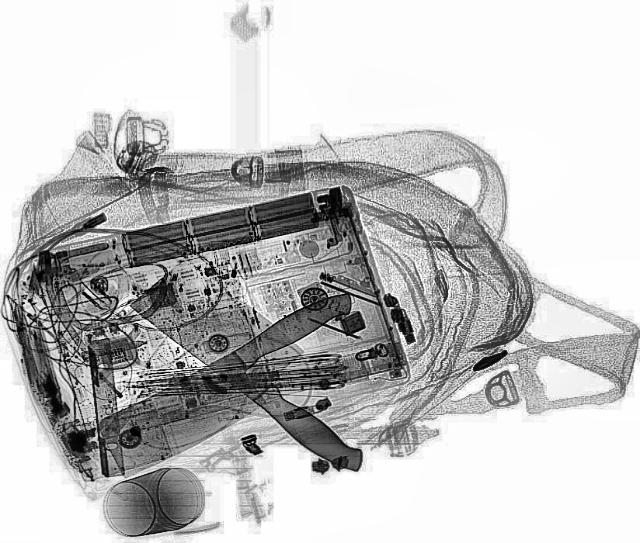Knife: (117, 258, 413, 476), (76, 287, 392, 479)
